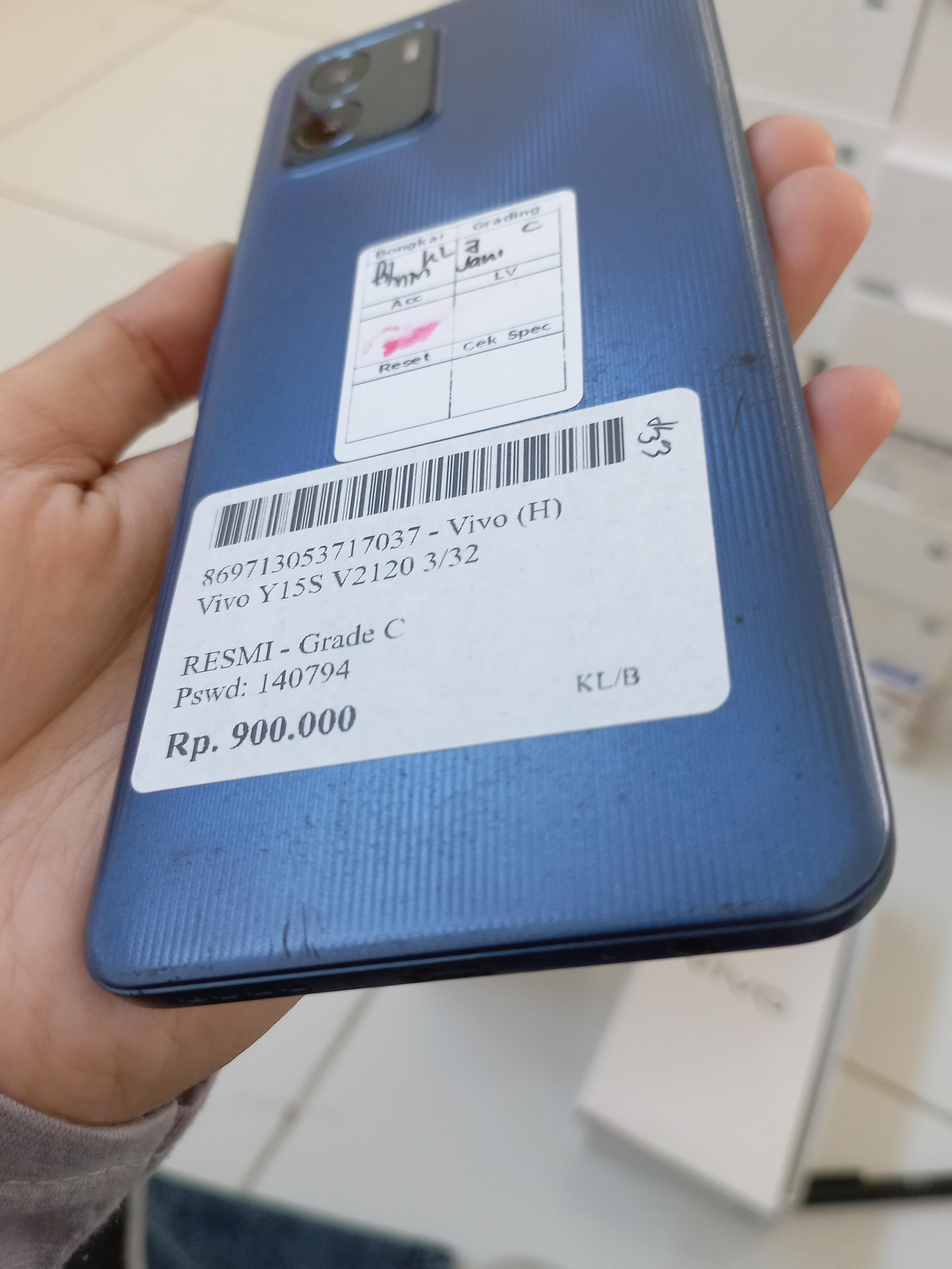Dents: (180, 803, 359, 875), (257, 905, 340, 968), (116, 961, 229, 980), (728, 343, 779, 383), (714, 889, 765, 924), (723, 602, 765, 634)
